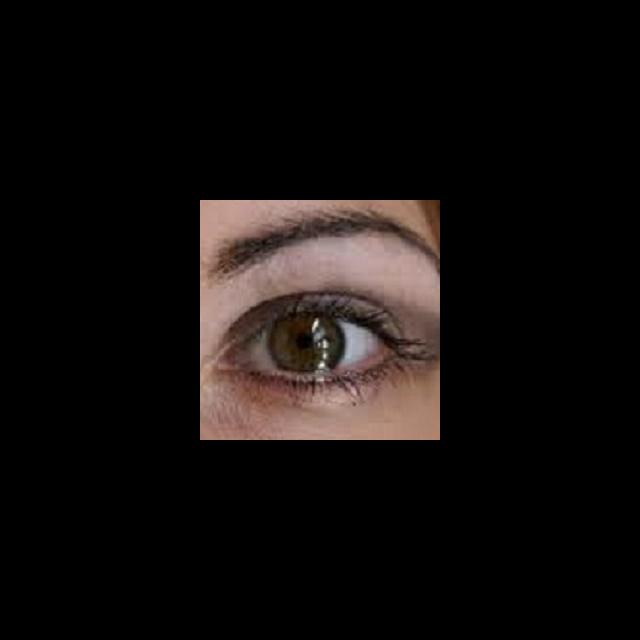eye: (241, 314, 384, 372)
iris: (270, 316, 346, 371)
